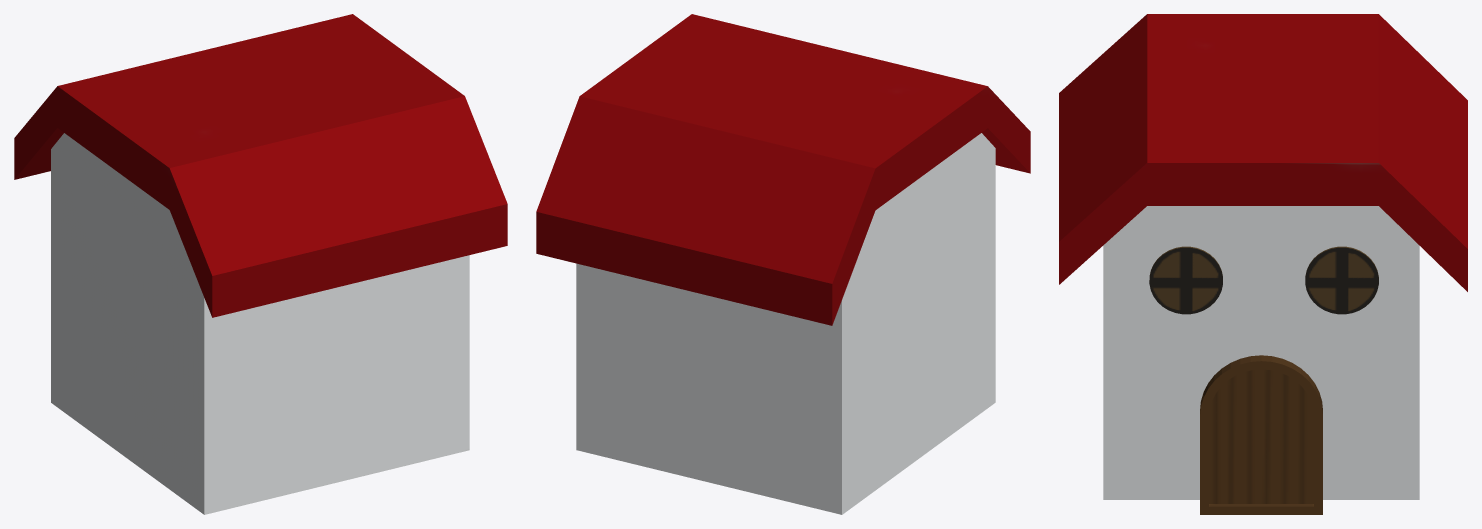
The model's file is House.fbx.
The picture shows the model from 3 angles, left to right: view 1: azimuth 30°, elevation 25°; view 2: azimuth 150°, elevation 25°; view 3: azimuth 270°, elevation 25°; orthographic projection. The views are drawn at different scales.
Visible parts, largest first — view 1: Cube; view 2: Cube; view 3: Cube, Cube.001, Jendela, Jendela.001.
Boxes of the visible parts, x1,y1,x2,y2 form: Cube: (14,14,507,514); Cube: (536,14,1030,514); Cube: (1059,14,1467,499); Cube.001: (1200,355,1322,514); Jendela: (1305,246,1378,314); Jendela.001: (1149,246,1222,314).
Size of the model in its own units: 572 by 635 by 664.
